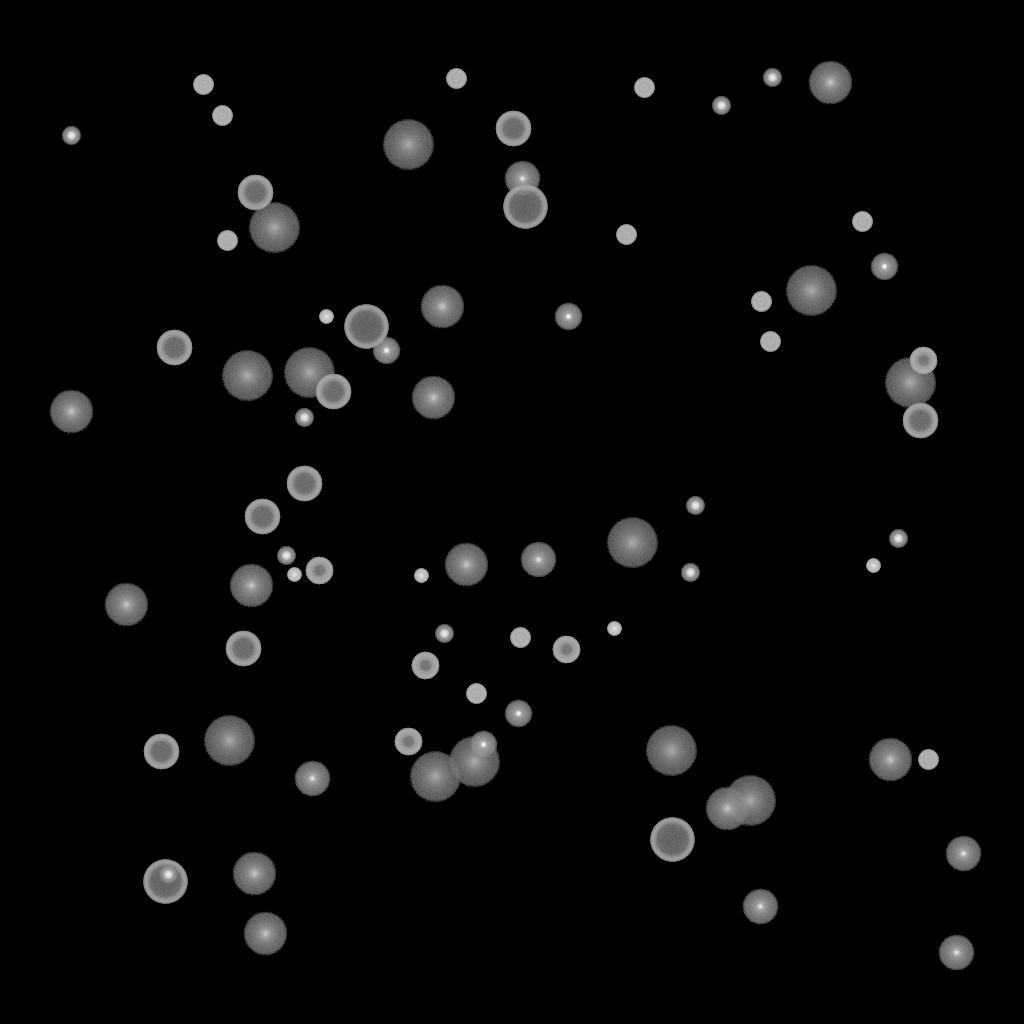depth:-10: (504, 700, 532, 728), (469, 731, 497, 759), (554, 303, 582, 331), (870, 253, 898, 281), (372, 337, 400, 365)
depth:-20: (62, 127, 80, 145), (712, 97, 730, 115), (889, 530, 907, 548), (763, 69, 781, 87), (277, 547, 295, 565), (681, 564, 699, 582), (295, 409, 313, 427), (159, 866, 177, 884), (435, 625, 453, 643), (686, 497, 704, 515)
depth:-30: (287, 568, 301, 582), (866, 559, 880, 573), (414, 569, 428, 583), (319, 310, 333, 324), (607, 622, 621, 636)
depth:-40: (510, 628, 530, 648), (760, 332, 780, 352), (751, 292, 771, 312), (193, 75, 213, 95), (616, 225, 636, 245), (634, 78, 654, 98), (466, 684, 486, 704), (446, 69, 466, 89), (852, 212, 872, 232), (217, 231, 237, 251), (918, 750, 938, 770), (212, 106, 232, 126)
depth:-50: (411, 652, 439, 680), (305, 557, 333, 585), (909, 347, 937, 375), (552, 636, 580, 664), (394, 728, 422, 756)
depth:-60: (495, 111, 531, 147), (244, 499, 280, 535), (286, 466, 322, 502), (143, 734, 179, 770), (902, 403, 938, 439), (237, 175, 273, 211), (225, 631, 261, 667), (156, 330, 192, 366), (315, 374, 351, 410)
depth:-70: (503, 185, 547, 229), (344, 305, 388, 349), (650, 818, 694, 862), (143, 860, 187, 904)
depth:0: (938, 935, 974, 971), (945, 836, 981, 872), (294, 761, 330, 797), (520, 542, 556, 578), (504, 161, 540, 197), (742, 889, 778, 925)
depth:10: (705, 787, 749, 831), (229, 564, 273, 608), (420, 285, 464, 329), (243, 912, 287, 956), (868, 738, 912, 782), (104, 583, 148, 627), (49, 390, 93, 434), (232, 852, 276, 896), (444, 543, 488, 587), (808, 61, 852, 105), (411, 376, 455, 420)
depth:20: (382, 120, 434, 170), (448, 737, 500, 787), (785, 266, 837, 316), (221, 351, 273, 401), (724, 776, 776, 826), (203, 716, 255, 766), (645, 726, 697, 776), (283, 348, 335, 398), (884, 358, 936, 408), (248, 203, 300, 253), (606, 518, 658, 568), (409, 752, 461, 802)
